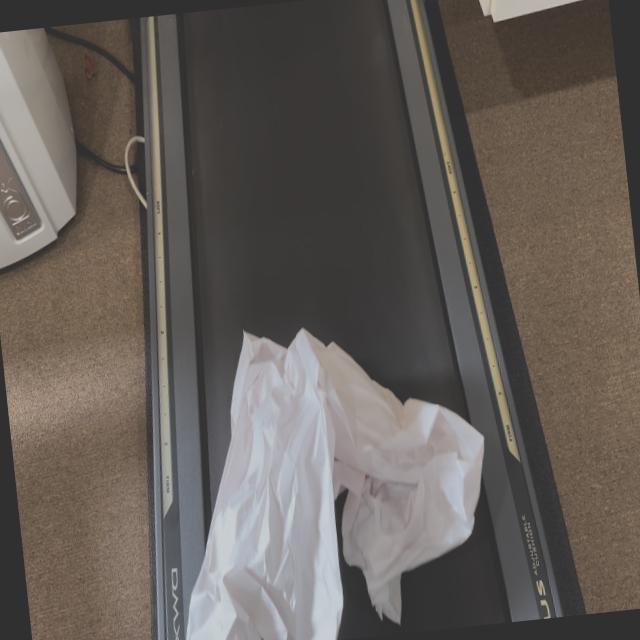Recycle: (152, 301, 506, 640)
